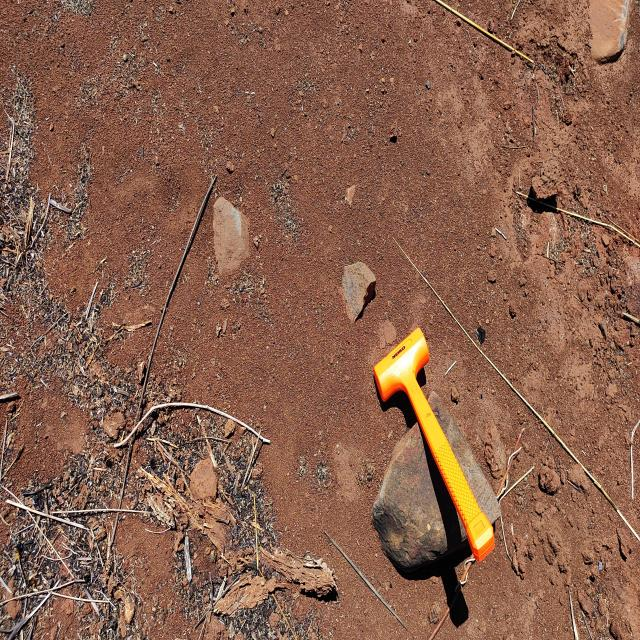Orange_hammer: (372, 325, 500, 564)
